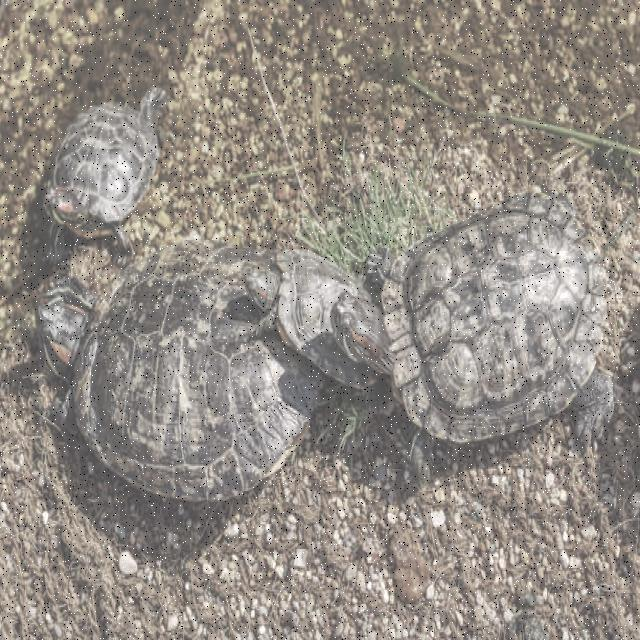tortoise: (334, 202, 610, 440), (27, 274, 223, 504), (35, 96, 165, 236), (238, 239, 324, 389)
